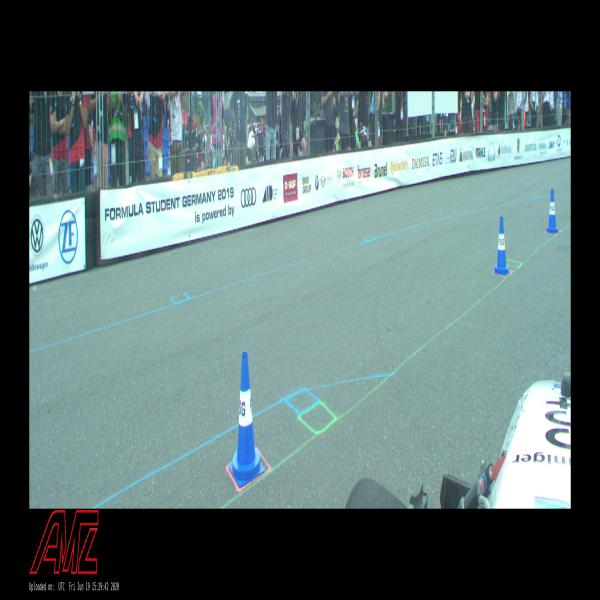blue_cone: (229, 352, 265, 487), (493, 217, 510, 275), (546, 189, 558, 233)
